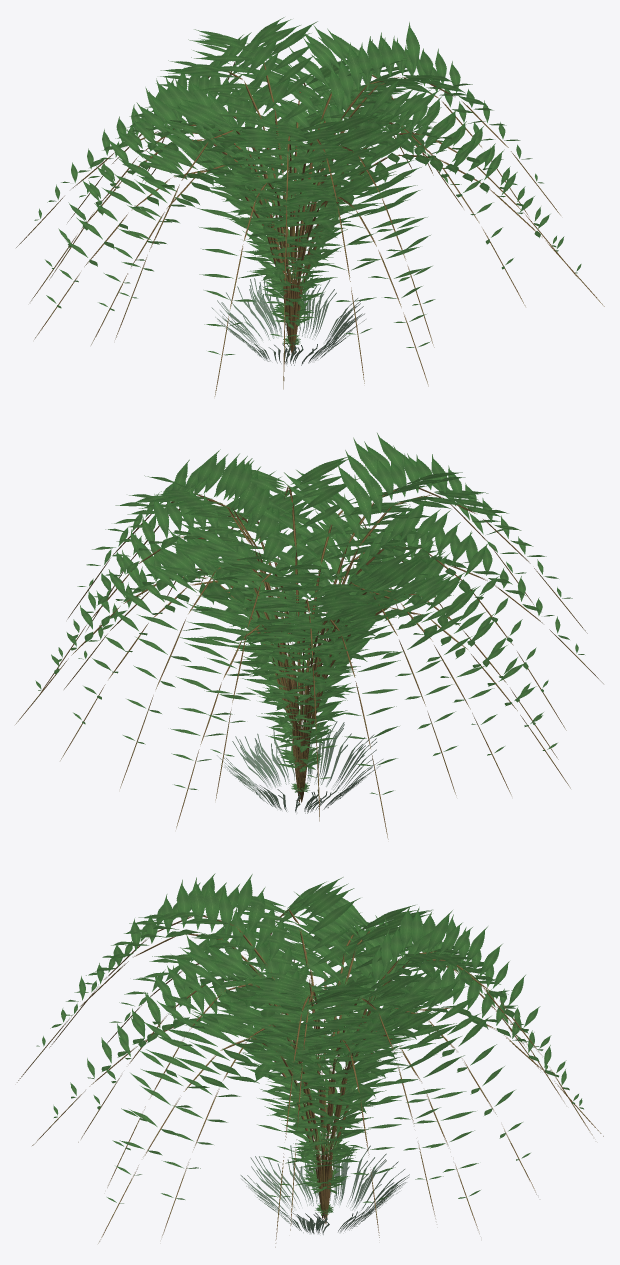
The model's file is FERN_01_Bracken_Spread.glb.
3 renders of one model, top to bottom at view 1: azimuth 30°, elevation 25°; view 2: azimuth 150°, elevation 25°; view 3: azimuth 270°, elevation 25°, orthographic. The views are drawn at different scales.
Visible parts, largest first — view 1: FERN_01_Bracken_Spread__FoliageCards, FERN_01_Bracken_Spread__WoodyStems; view 2: FERN_01_Bracken_Spread__FoliageCards, FERN_01_Bracken_Spread__WoodyStems; view 3: FERN_01_Bracken_Spread__FoliageCards, FERN_01_Bracken_Spread__WoodyStems.
Boxes of the visible parts, x1,y1,x2,y2 form: FERN_01_Bracken_Spread__FoliageCards: [34, 17, 581, 365]; FERN_01_Bracken_Spread__WoodyStems: [16, 61, 604, 396]; FERN_01_Bracken_Spread__FoliageCards: [35, 433, 584, 813]; FERN_01_Bracken_Spread__WoodyStems: [15, 486, 603, 839]; FERN_01_Bracken_Spread__FoliageCards: [36, 873, 583, 1234]; FERN_01_Bracken_Spread__WoodyStems: [17, 908, 603, 1247].
Size of the model in its own units: 1.45 by 0.8033 by 1.4.
1 material, 1 textured.
